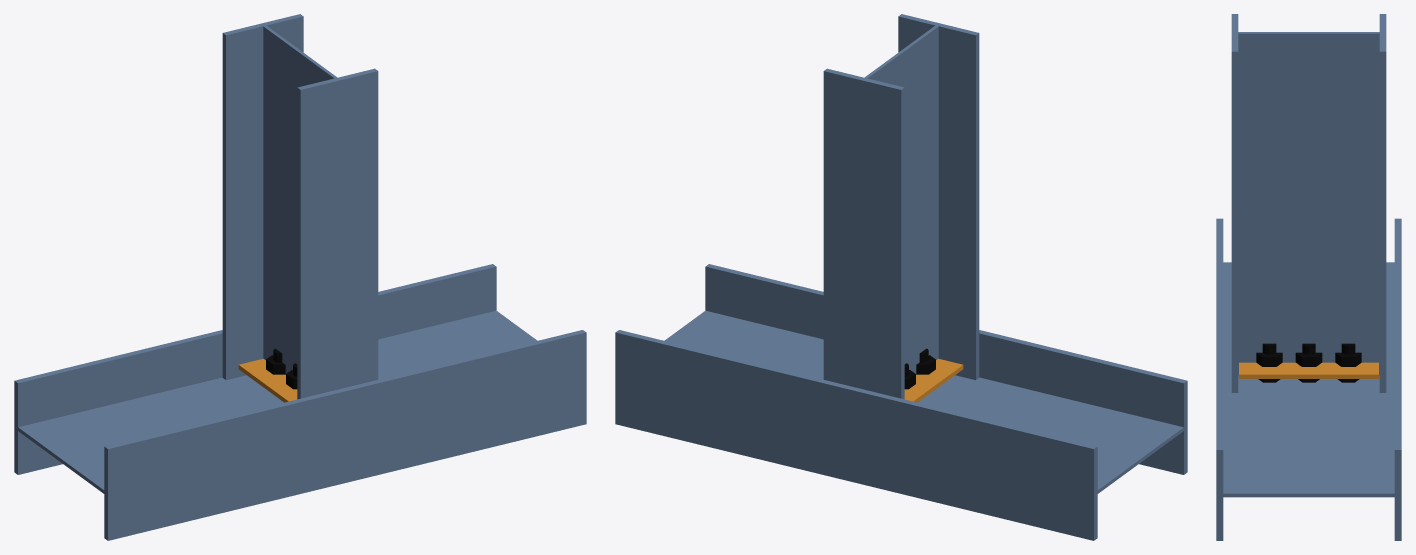
File: detail_B2_beam_to_beam_connection.obj
3 renders of one model, left to right at view 1: azimuth 30°, elevation 25°; view 2: azimuth 150°, elevation 25°; view 3: azimuth 270°, elevation 25°, orthographic.
Visible parts, largest first — view 1: B2_primary_beam_top_flange, B2_secondary_beam_top_flange, B2_primary_beam_bottom_flange, B2_primary_beam_web, B2_secondary_beam_bottom_flange, B2_secondary_beam_web, B2_PL8_fin_plate_100x230; view 2: B2_primary_beam_bottom_flange, B2_secondary_beam_bottom_flange, B2_primary_beam_top_flange, B2_primary_beam_web, B2_secondary_beam_top_flange, B2_secondary_beam_web, B2_PL8_fin_plate_100x230; view 3: B2_secondary_beam_web, B2_primary_beam_web, B2_secondary_beam_top_flange, B2_secondary_beam_bottom_flange, B2_primary_beam_top_flange, B2_primary_beam_bottom_flange, B2_PL8_fin_plate_100x230, bolt_M24_B2_1, bolt_M24_B2_3, bolt_M24_B2_2.
Boxes of the visible parts, bbox=[...] form: B2_primary_beam_top_flange: bbox=[104, 330, 586, 540]; B2_secondary_beam_top_flange: bbox=[297, 68, 378, 399]; B2_primary_beam_bottom_flange: bbox=[14, 264, 496, 474]; B2_primary_beam_web: bbox=[18, 310, 537, 493]; B2_secondary_beam_bottom_flange: bbox=[222, 14, 303, 380]; B2_secondary_beam_web: bbox=[263, 25, 336, 374]; B2_PL8_fin_plate_100x230: bbox=[238, 358, 297, 402]; B2_primary_beam_bottom_flange: bbox=[615, 330, 1097, 540]; B2_secondary_beam_bottom_flange: bbox=[823, 68, 904, 399]; B2_primary_beam_top_flange: bbox=[705, 264, 1187, 474]; B2_primary_beam_web: bbox=[664, 310, 1183, 493]; B2_secondary_beam_top_flange: bbox=[898, 14, 979, 380]; B2_secondary_beam_web: bbox=[865, 25, 938, 374]; B2_PL8_fin_plate_100x230: bbox=[904, 358, 963, 402]; B2_secondary_beam_web: bbox=[1238, 32, 1379, 375]; B2_primary_beam_web: bbox=[1223, 262, 1394, 497]; B2_secondary_beam_top_flange: bbox=[1231, 14, 1238, 392]; B2_secondary_beam_bottom_flange: bbox=[1379, 14, 1386, 392]; B2_primary_beam_top_flange: bbox=[1216, 218, 1223, 540]; B2_primary_beam_bottom_flange: bbox=[1394, 218, 1401, 540]; B2_PL8_fin_plate_100x230: bbox=[1239, 362, 1378, 378]; bolt_M24_B2_1: bbox=[1335, 343, 1361, 382]; bolt_M24_B2_3: bbox=[1256, 343, 1282, 382]; bolt_M24_B2_2: bbox=[1295, 343, 1322, 382].
Size of the model in its own units: 900 by 712 by 305.
